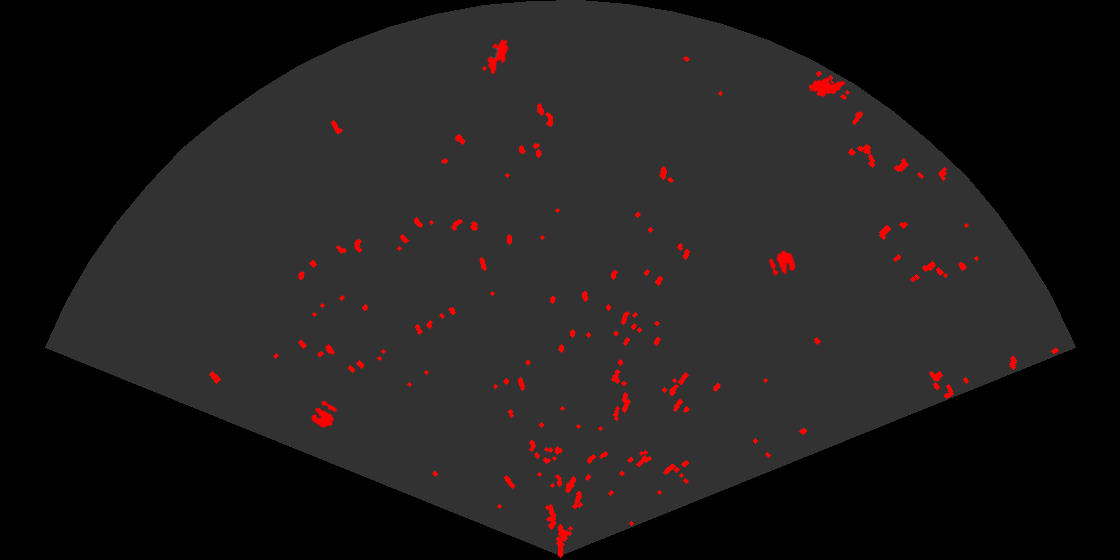AUV: (807, 76, 847, 99), (486, 38, 510, 76)
ball: (309, 399, 339, 430), (767, 249, 797, 277)
